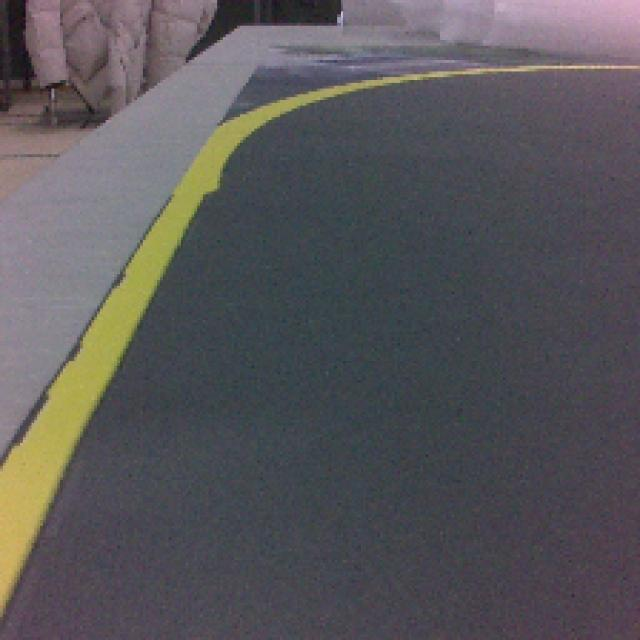Road: (0, 299, 636, 640)
